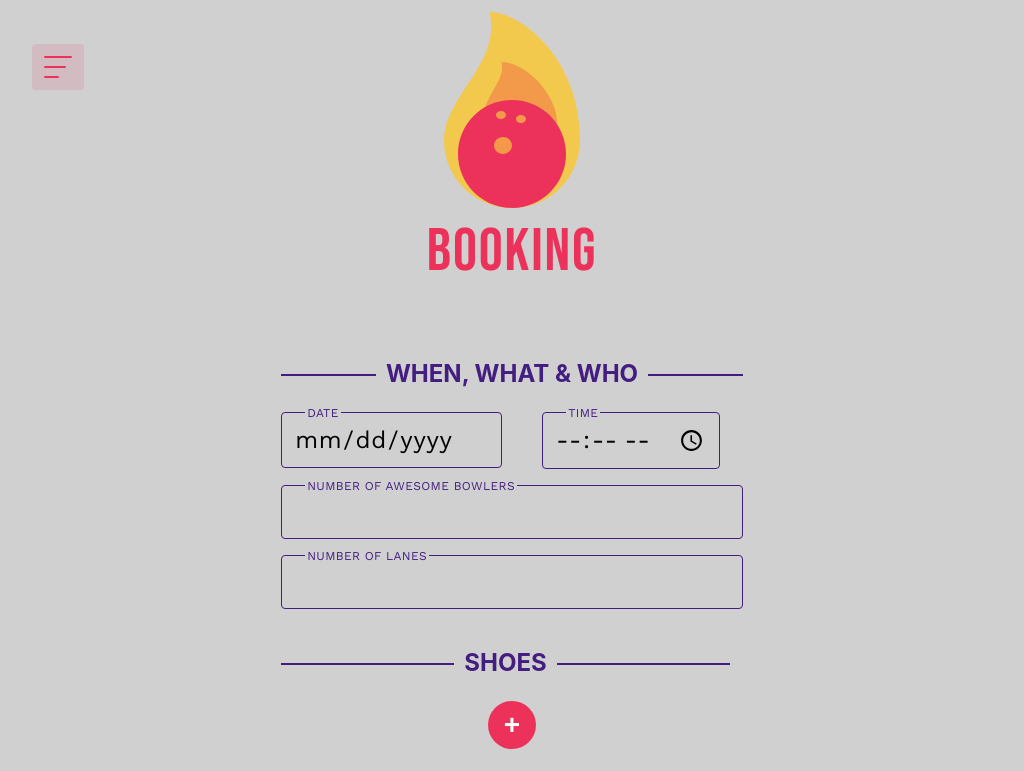
Scenario: Booking › should let the user remove a pair of shoes
What coordinates should you click on to do the following:
click the button "+"
I would click on:
 (512, 725)
Its box is 488,701 -> 536,749.
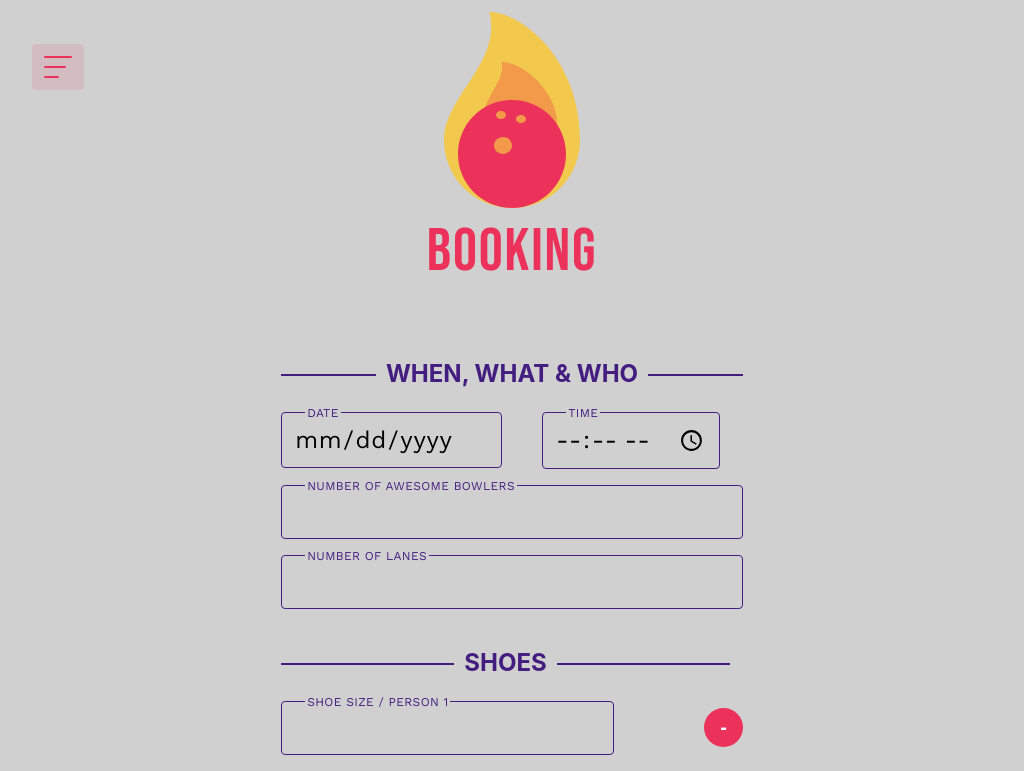
Check: the element with class "shoes__form" is shown, box 281,701 -> 743,755
What coordinates should you click on to do the following:
click the button "-"
I would click on:
 (724, 728)
Its box is 704,708 -> 743,747.
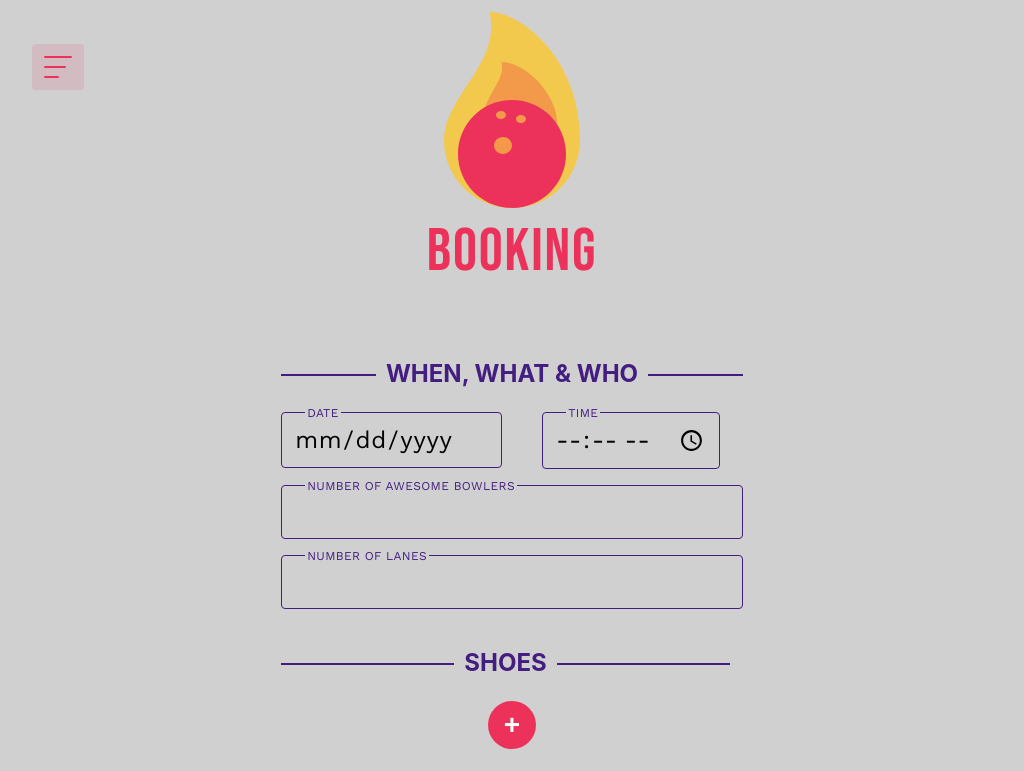
Check: the element with class "shoes__form" is gone
